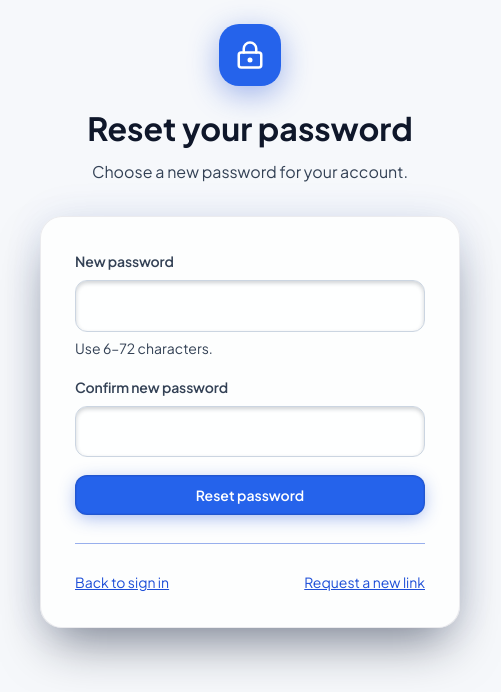
successful reset clears the local session
Step 1. Type "new-password" into the password field with id "new-password" → (250, 306), box [75,280,425,332]
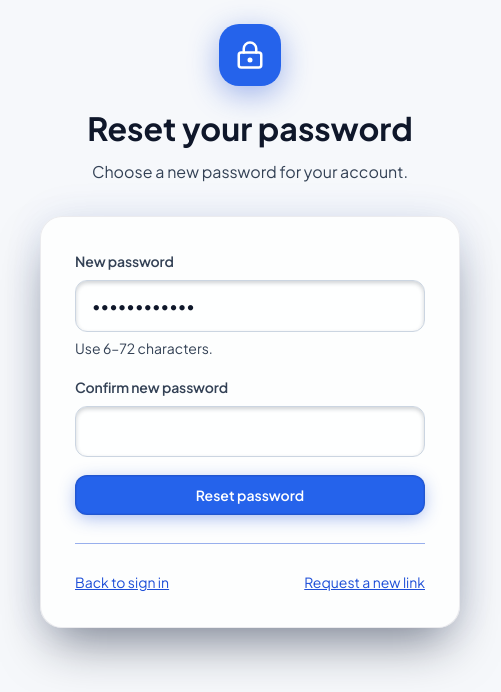
Step 2. Type "new-password" into the password field with id "confirm-password" → (250, 431), box [75,406,425,457]
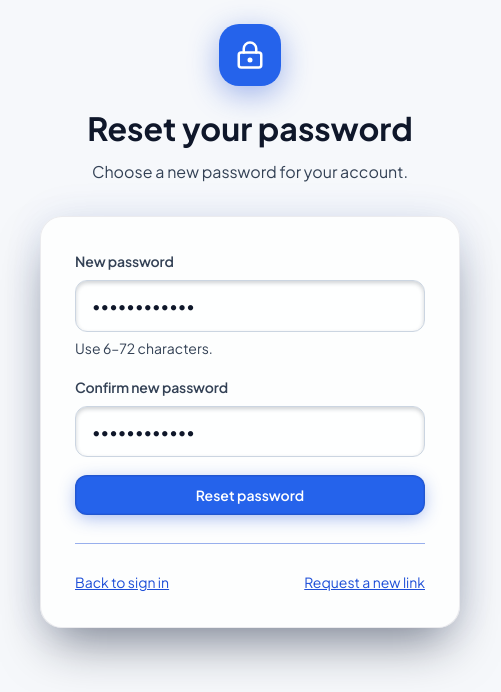
Step 3. Submit the form, box [75,251,425,515]
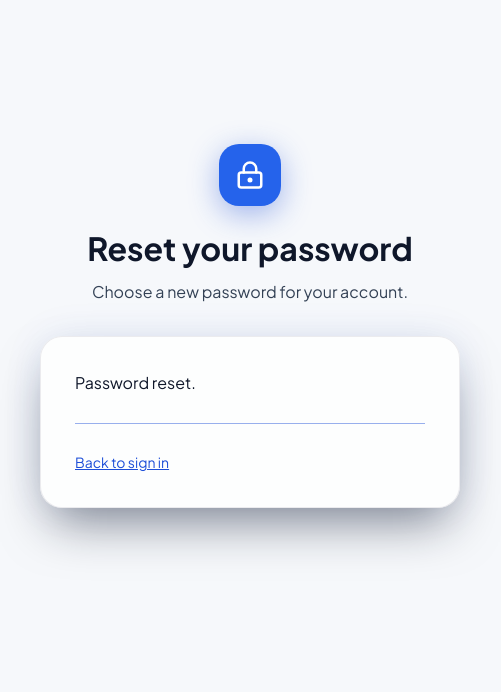
Result: the message "Password reset." is shown at [75,372,196,393]
